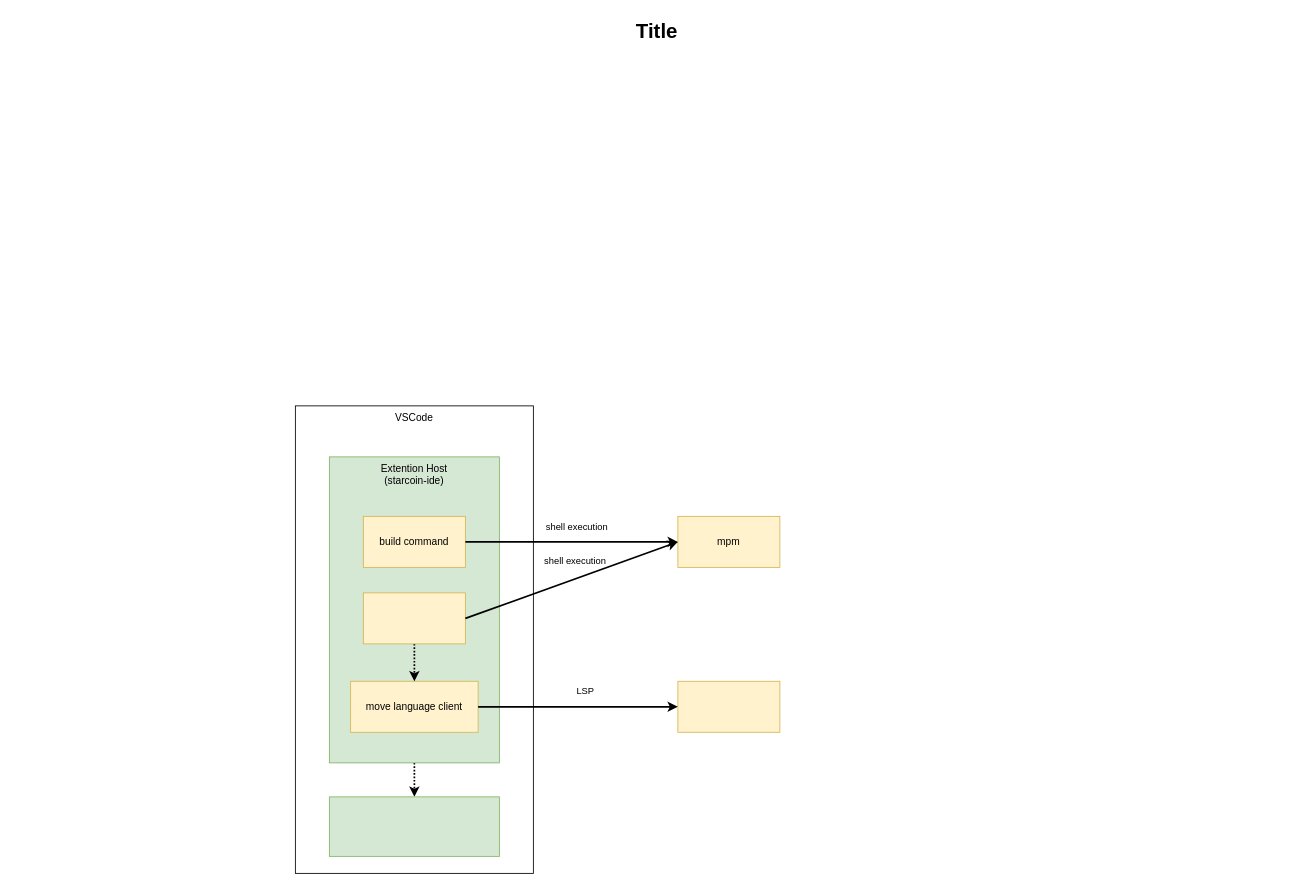
Some shapes in this 1312 by 888 pixel diagram are drawn without their labels. The centre of each missing label's shape, as x and y in pixels:
"Extention Host (damirka.move-syntax)" goes at (x=414, y=826).
"move-analyzer" goes at (x=728, y=706).
"test command" goes at (x=414, y=618).
